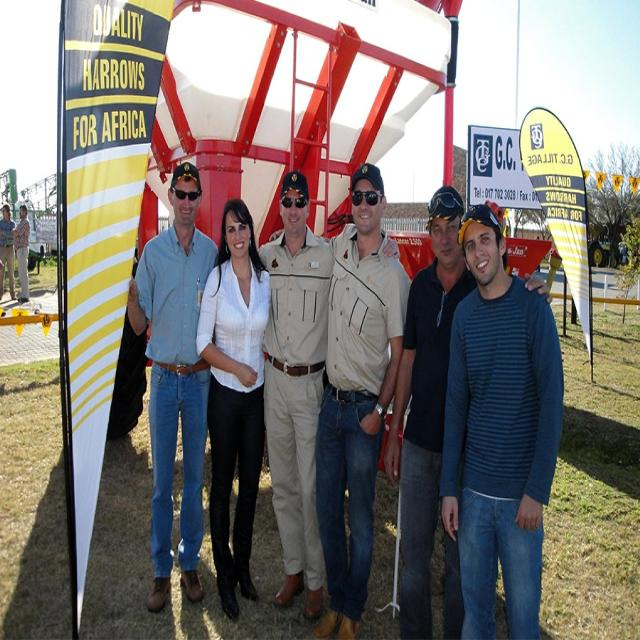body: (382, 182, 555, 639), (256, 169, 401, 622), (435, 200, 566, 639), (311, 161, 407, 639), (125, 160, 219, 612), (197, 196, 274, 622), (11, 203, 32, 304), (0, 203, 17, 303)
